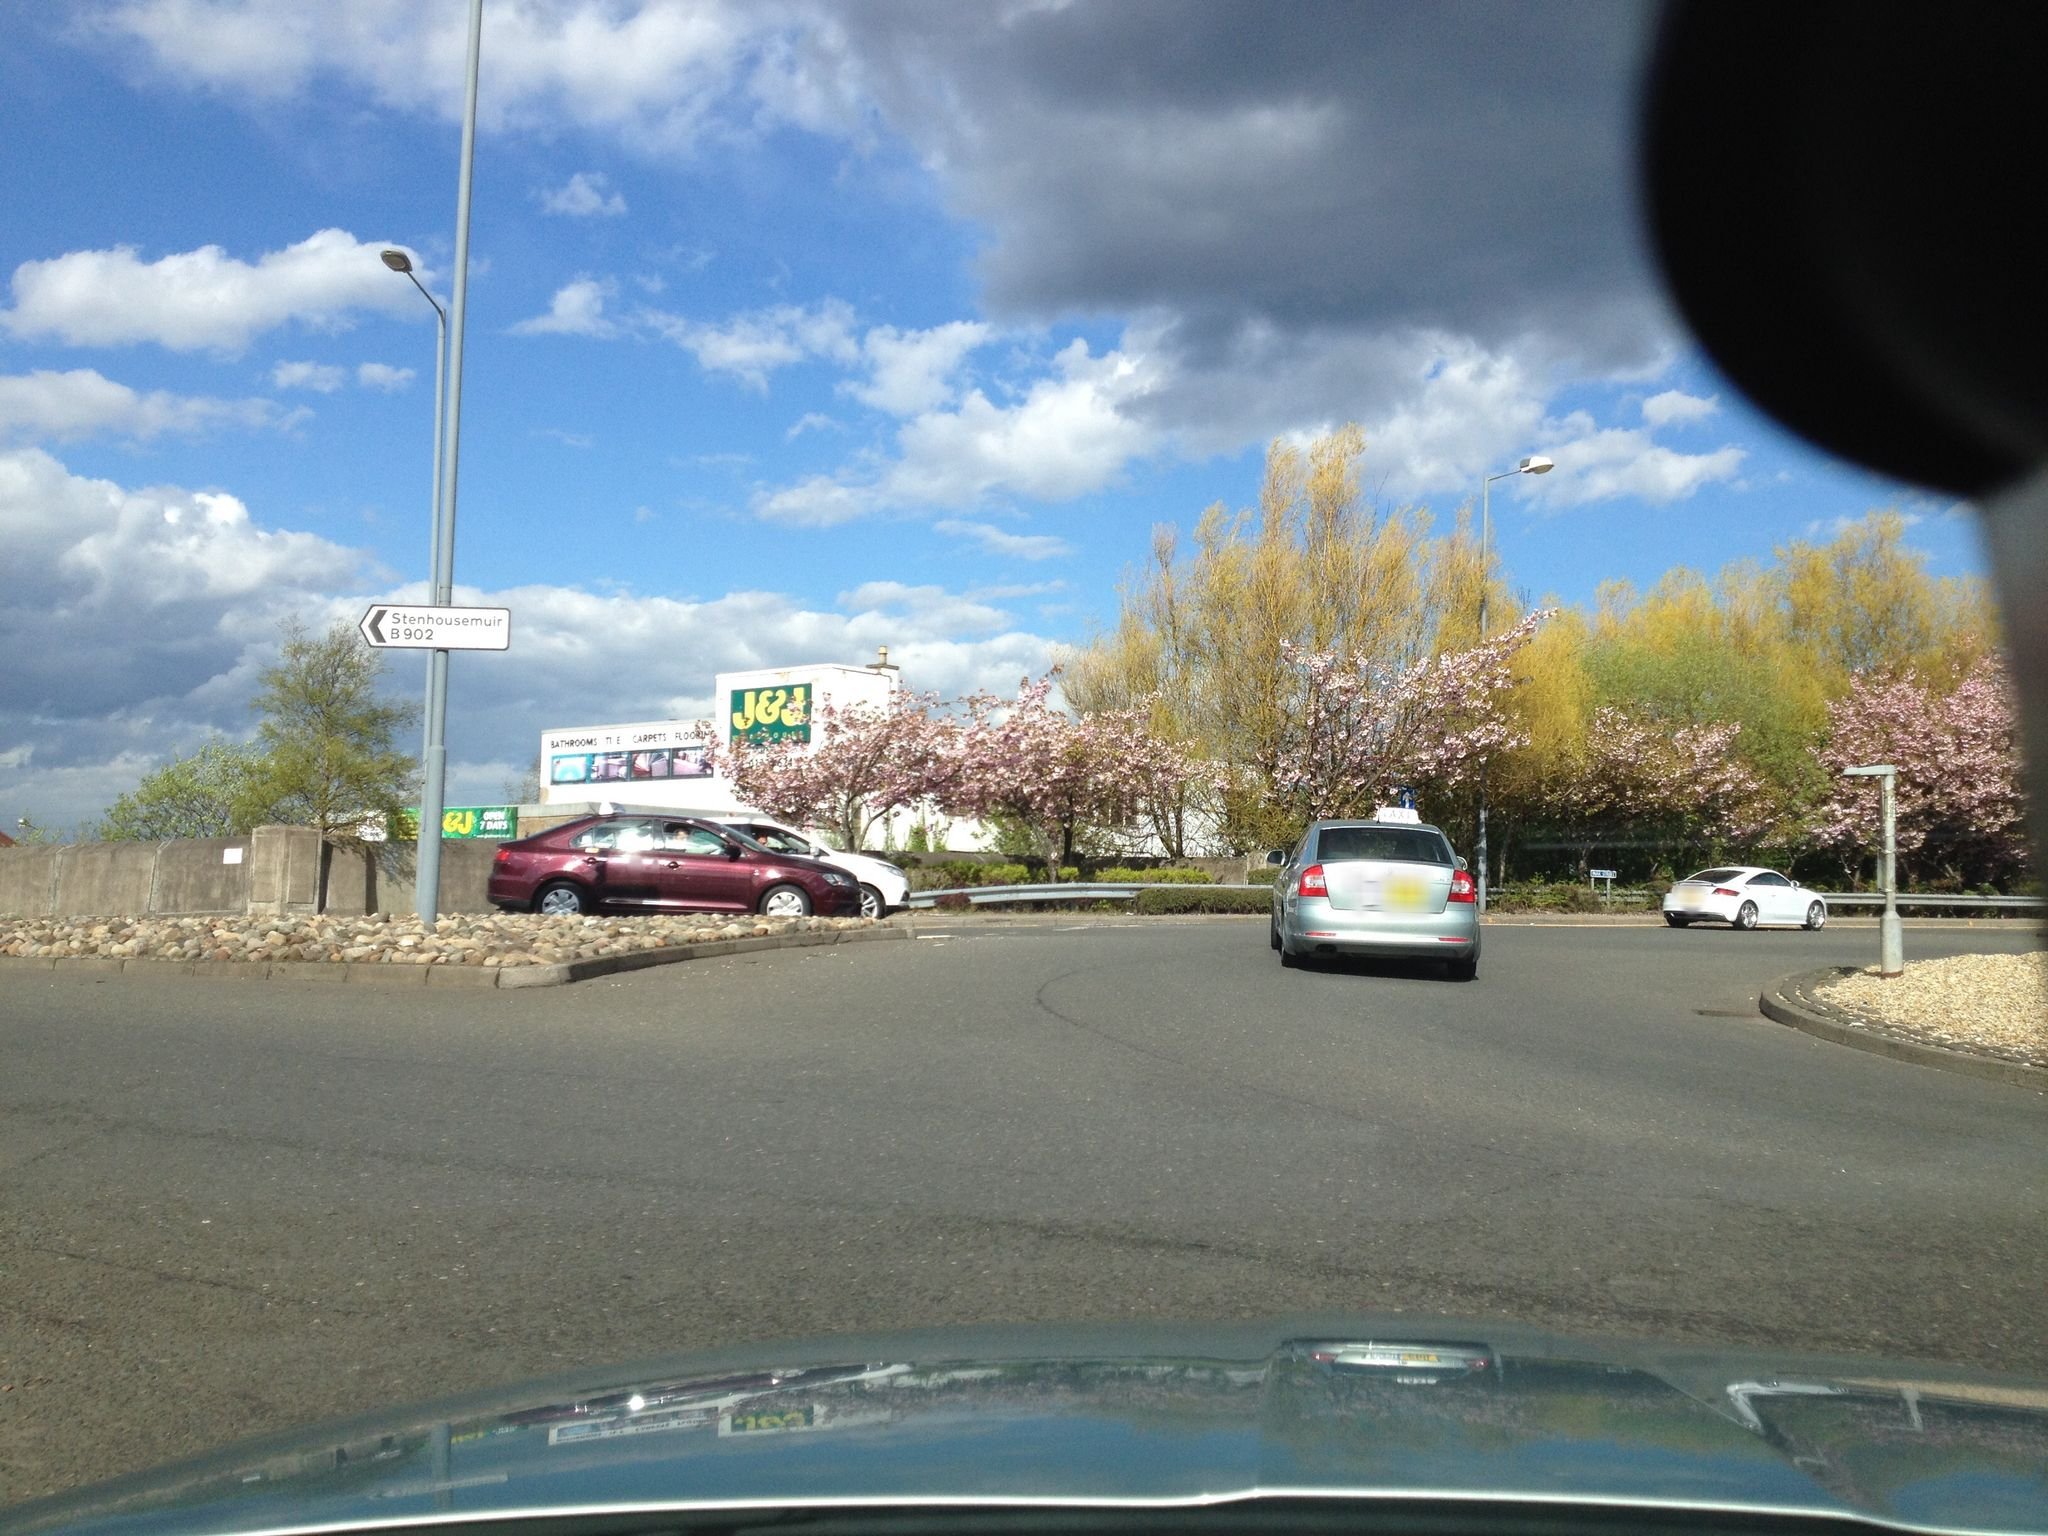car: (487, 812, 864, 921), (1263, 808, 1482, 978), (698, 815, 911, 918), (1663, 865, 1827, 931)
